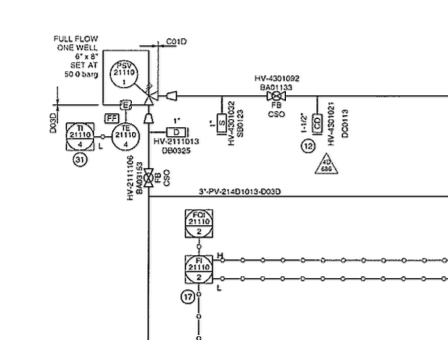Instrument: (108, 118, 142, 155), (108, 56, 140, 90)
Instrument-square: (179, 206, 217, 242), (63, 116, 97, 153), (181, 252, 215, 287)
